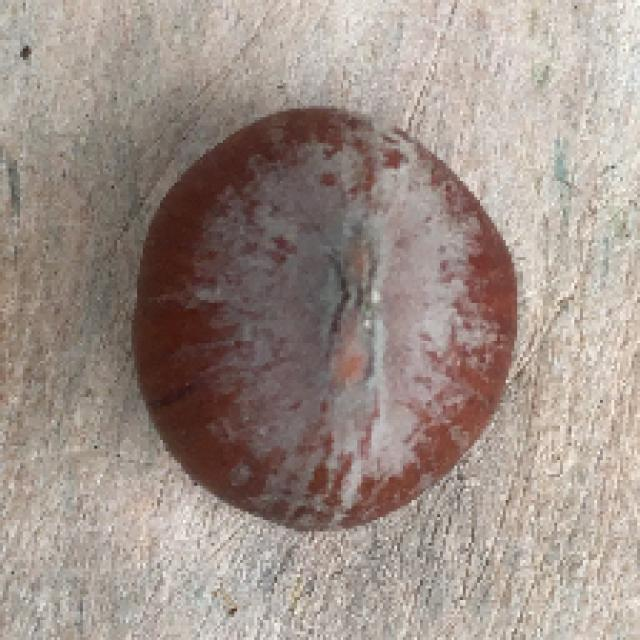qualityHazelnut: (134, 97, 525, 534)
